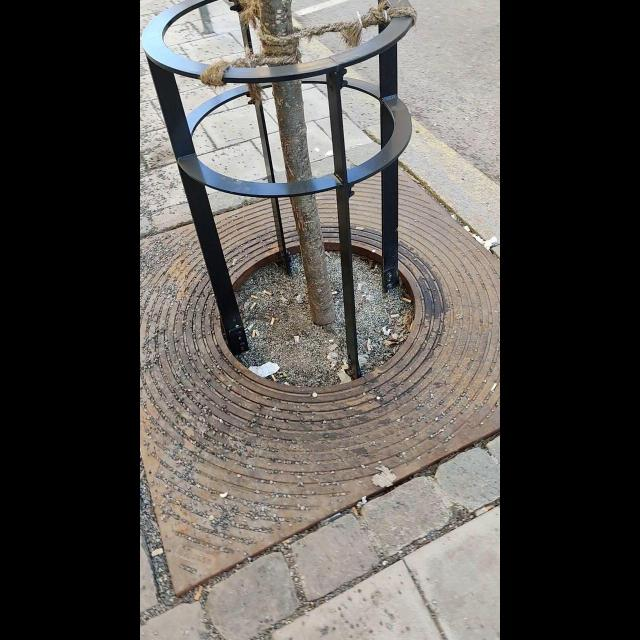cigarette: (352, 504, 361, 516), (390, 313, 402, 318), (366, 343, 372, 351), (270, 317, 276, 325), (271, 373, 276, 382), (263, 290, 272, 295), (249, 294, 258, 299), (402, 298, 412, 302), (232, 260, 237, 266), (332, 290, 338, 295), (252, 329, 255, 336)
